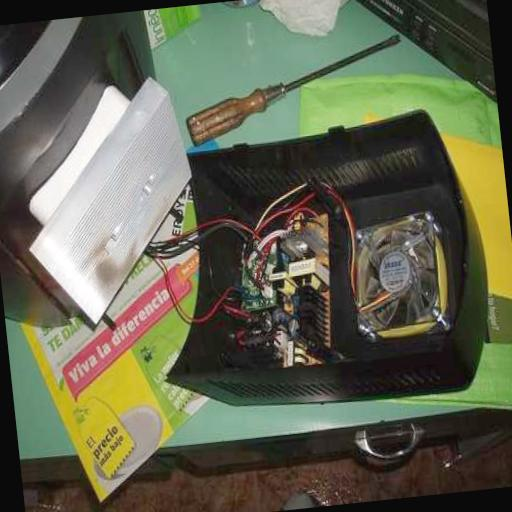screwdriver: (180, 32, 410, 145)
